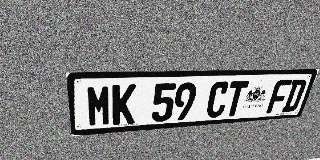5: (151, 83, 176, 122)
9: (172, 82, 198, 121)
C: (205, 81, 231, 118)
D: (281, 79, 308, 112)
F: (266, 80, 292, 113)
K: (112, 84, 136, 125)
M: (86, 85, 111, 127)
T: (223, 81, 249, 117)
